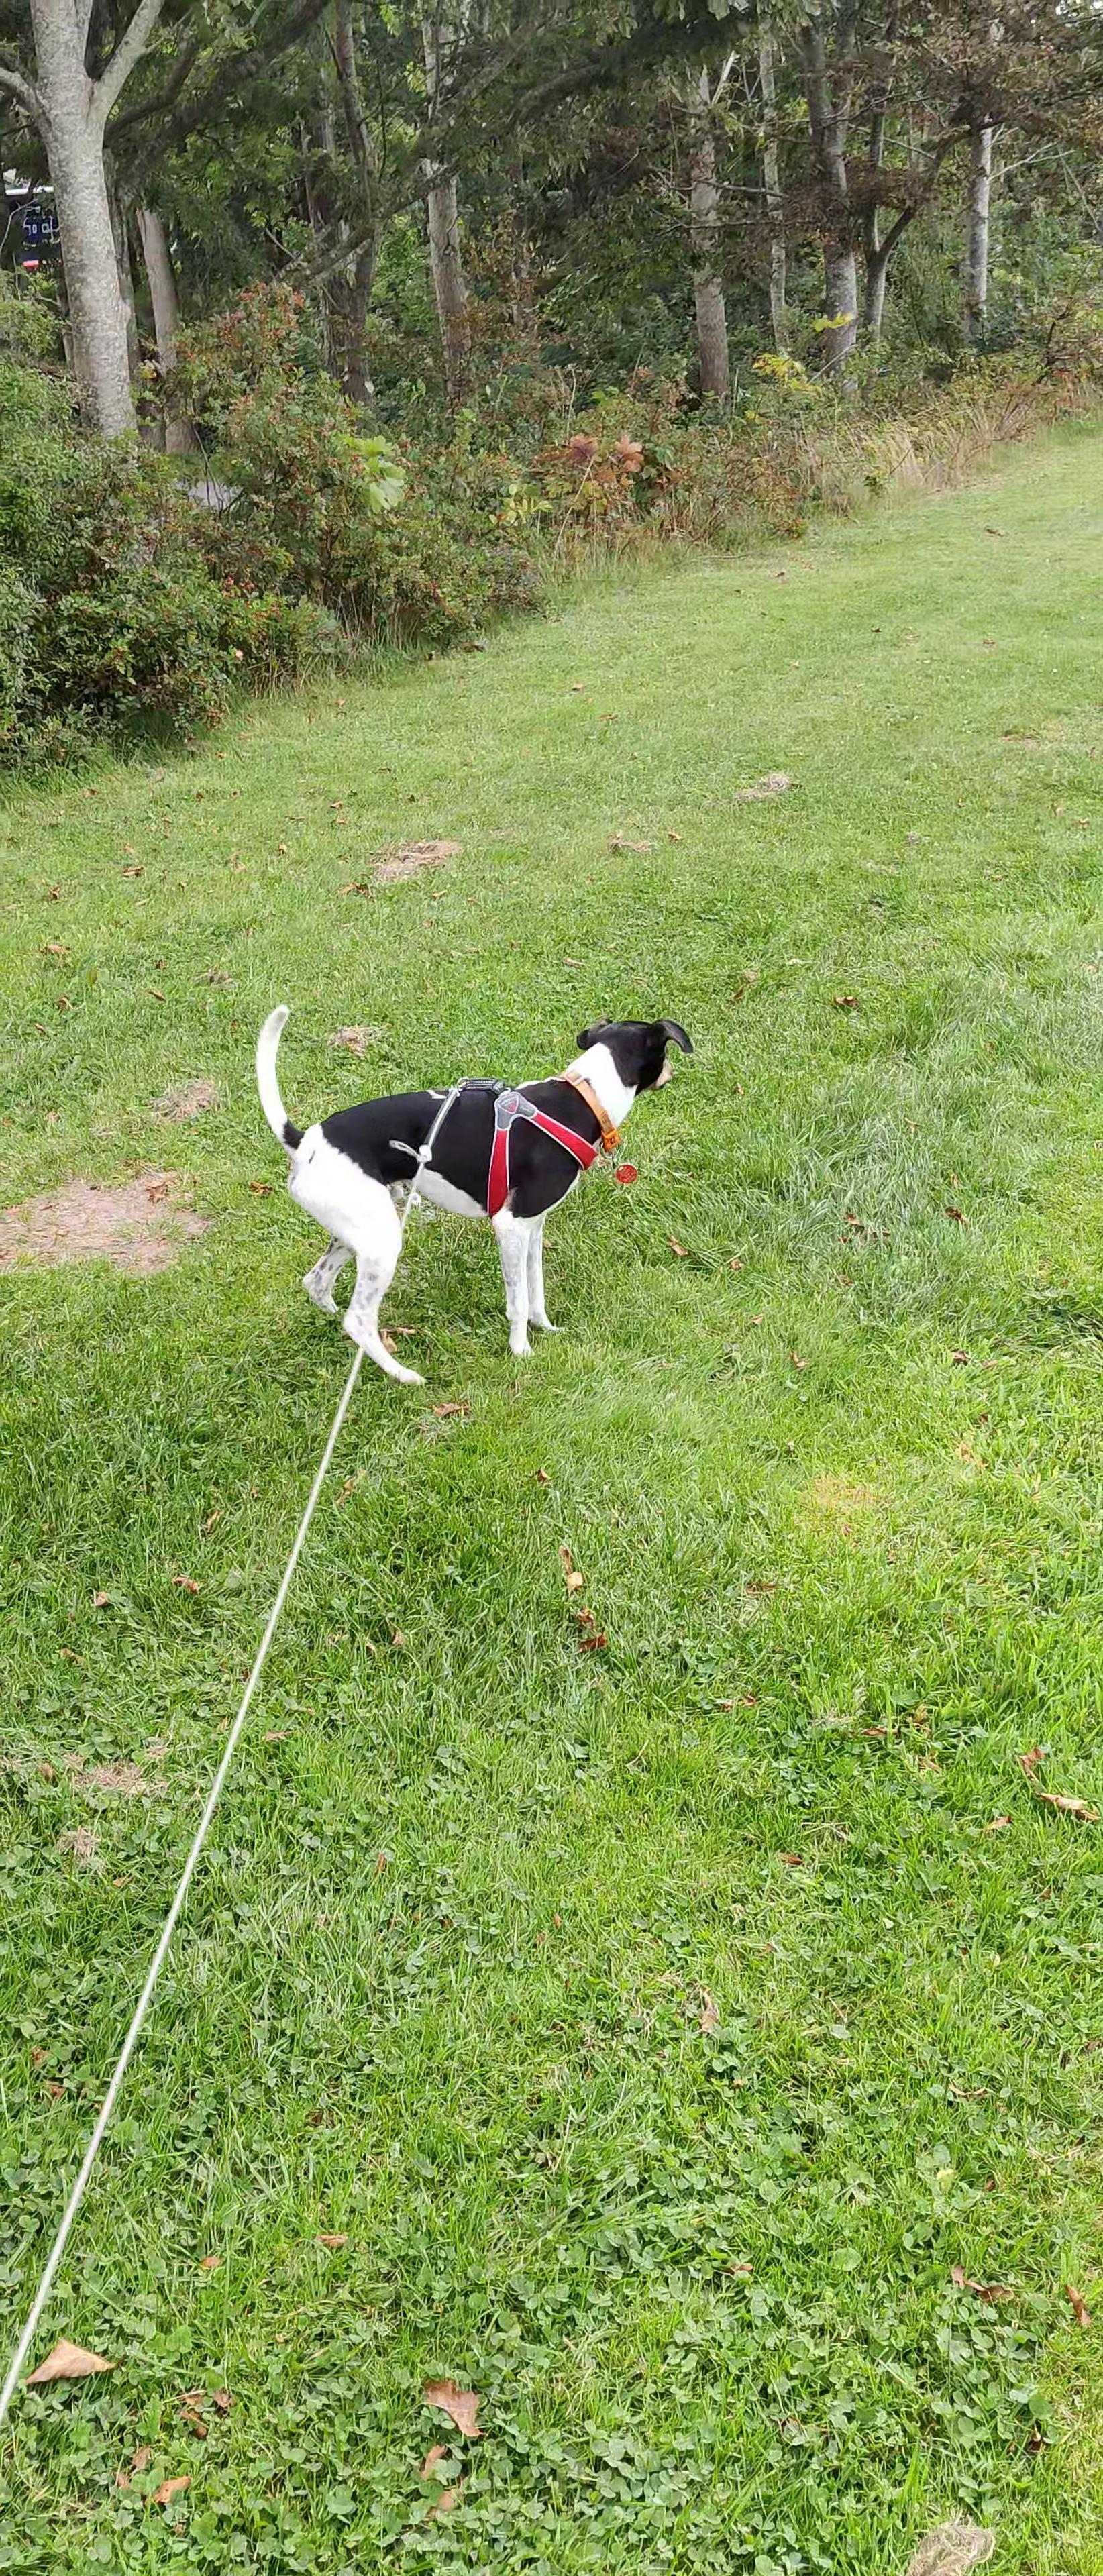Dog: (250, 992, 705, 1390)
